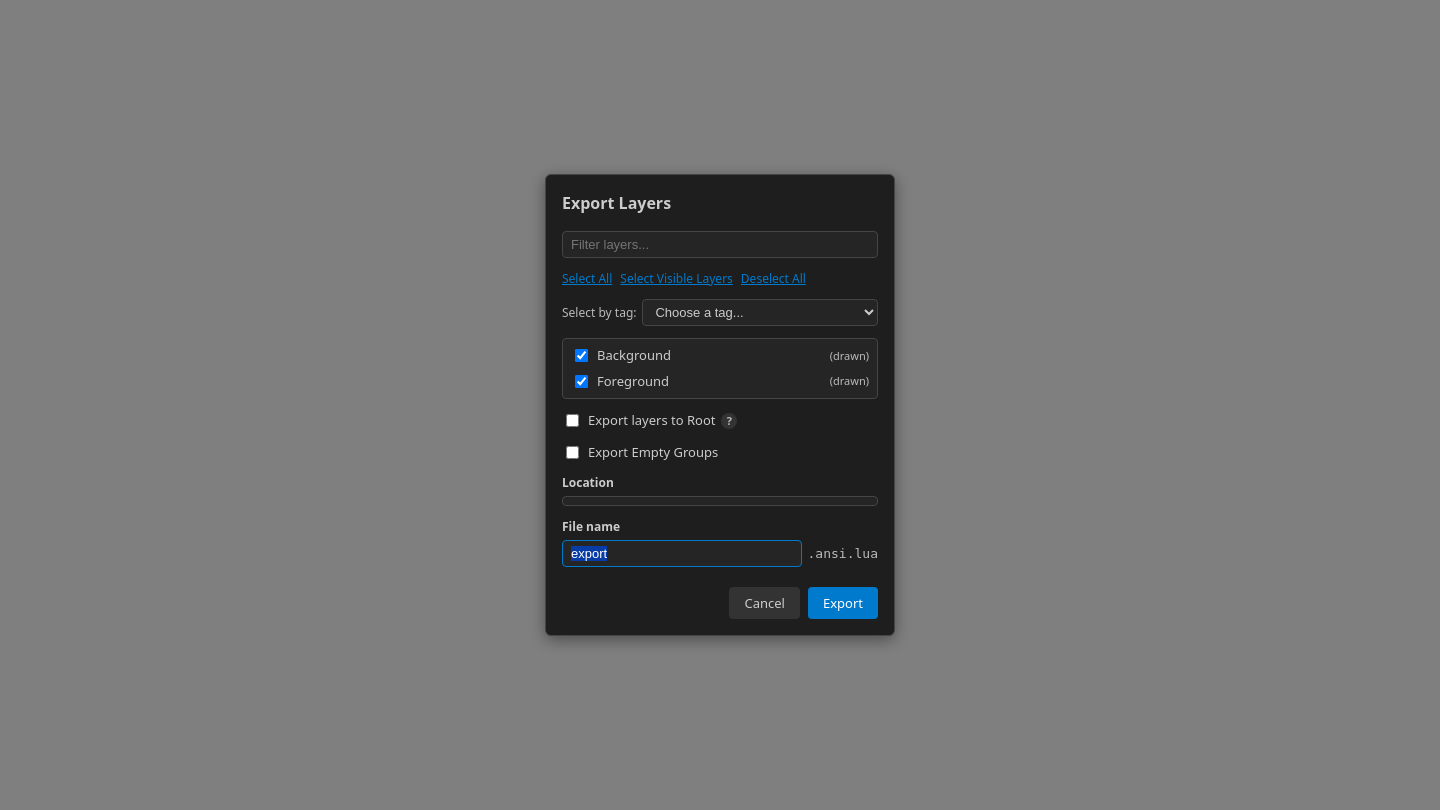
Test: ExportLayersDialog — tags, groups, dedup › Select by tag › selecting multiple tags unions their layers
Select "sky" in the dropdown with test id "export-tag-select" at (760,312), box [642, 299, 878, 326]
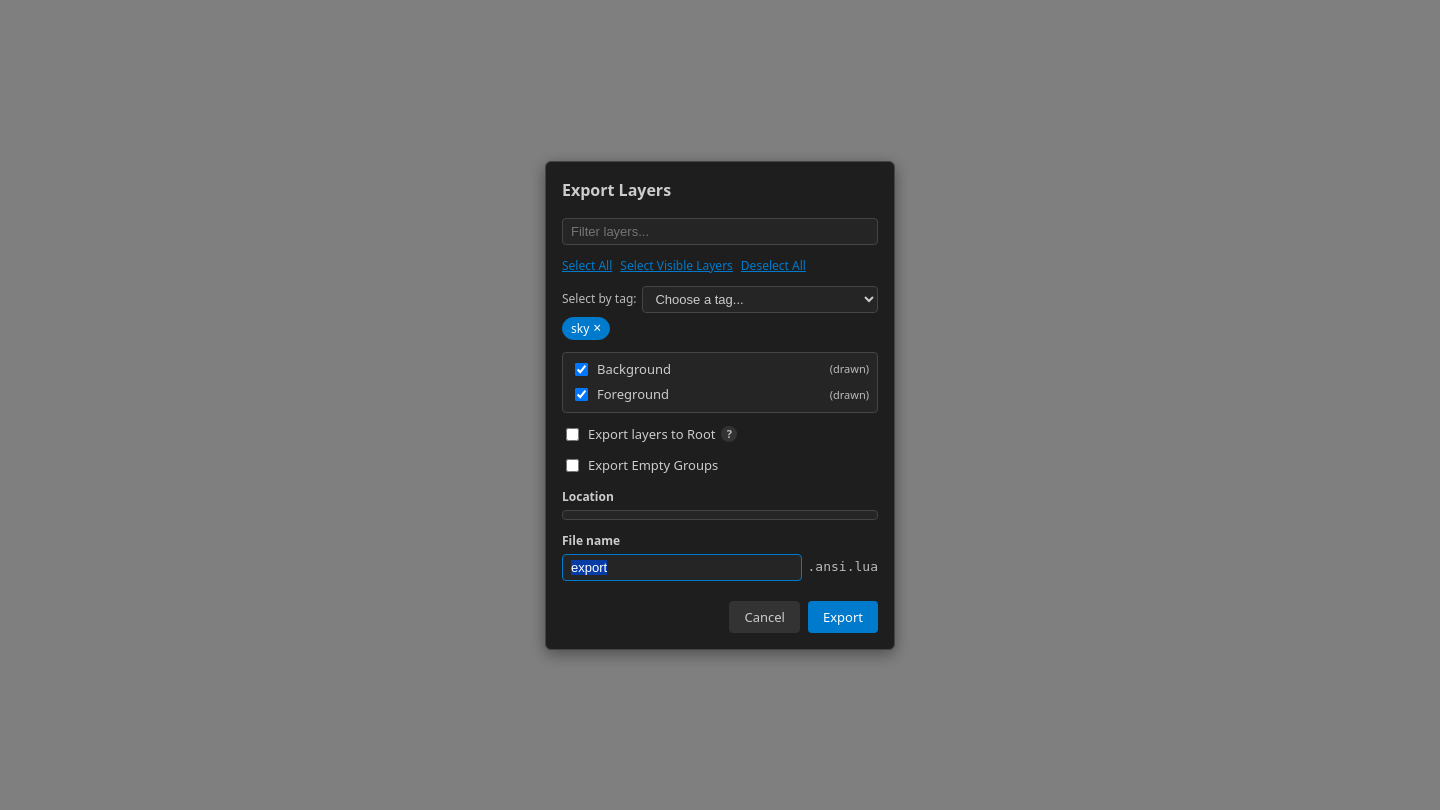
Select "ground" in the dropdown with test id "export-tag-select" at (760,299), box [642, 286, 878, 312]
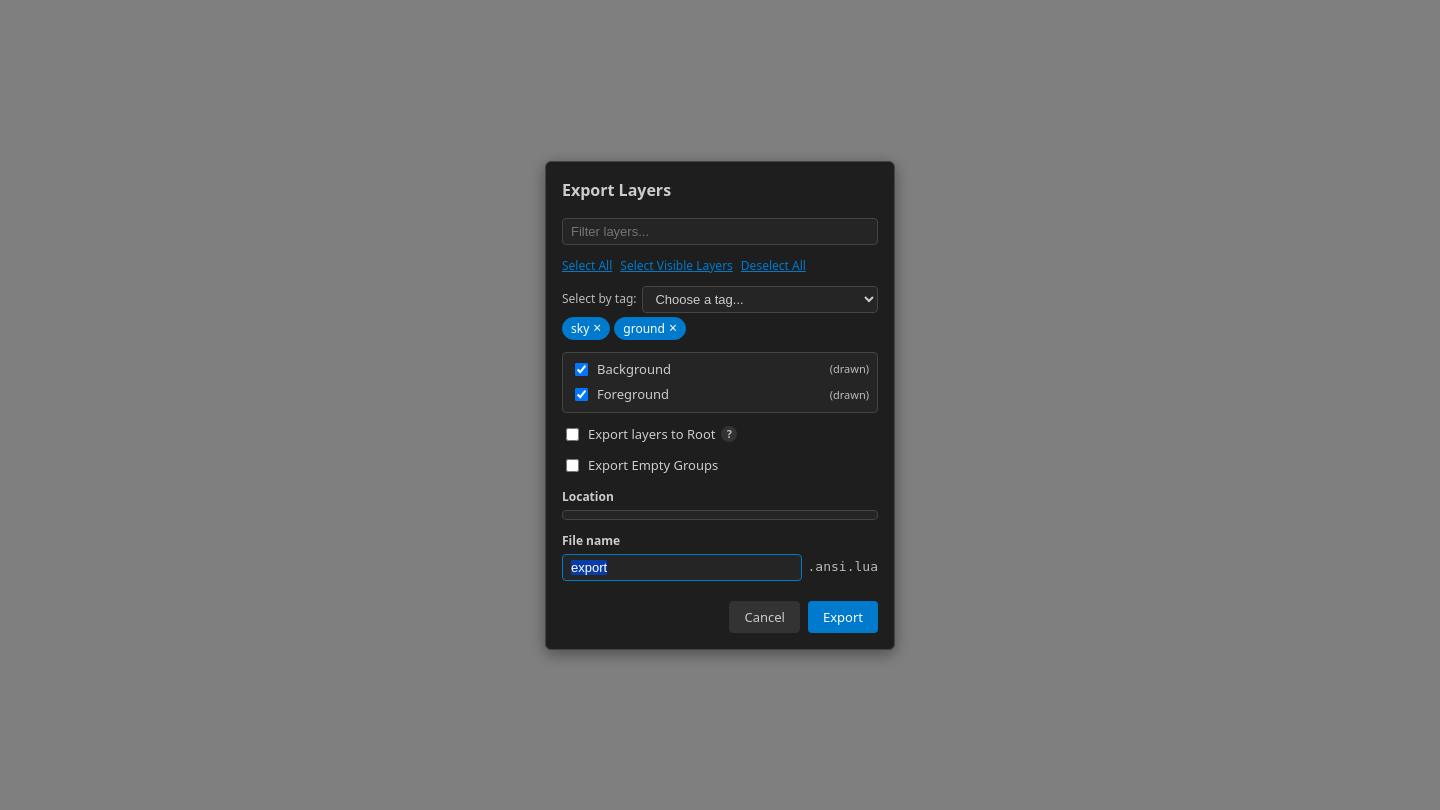
Expected: the checkbox with test id "export-check-bg-1" is checked, [575, 363, 588, 376]
Now the button with test id "export-pill-sky" is shown, box [562, 316, 610, 340]
Now the button with test id "export-pill-ground" is shown, box [614, 316, 686, 340]
